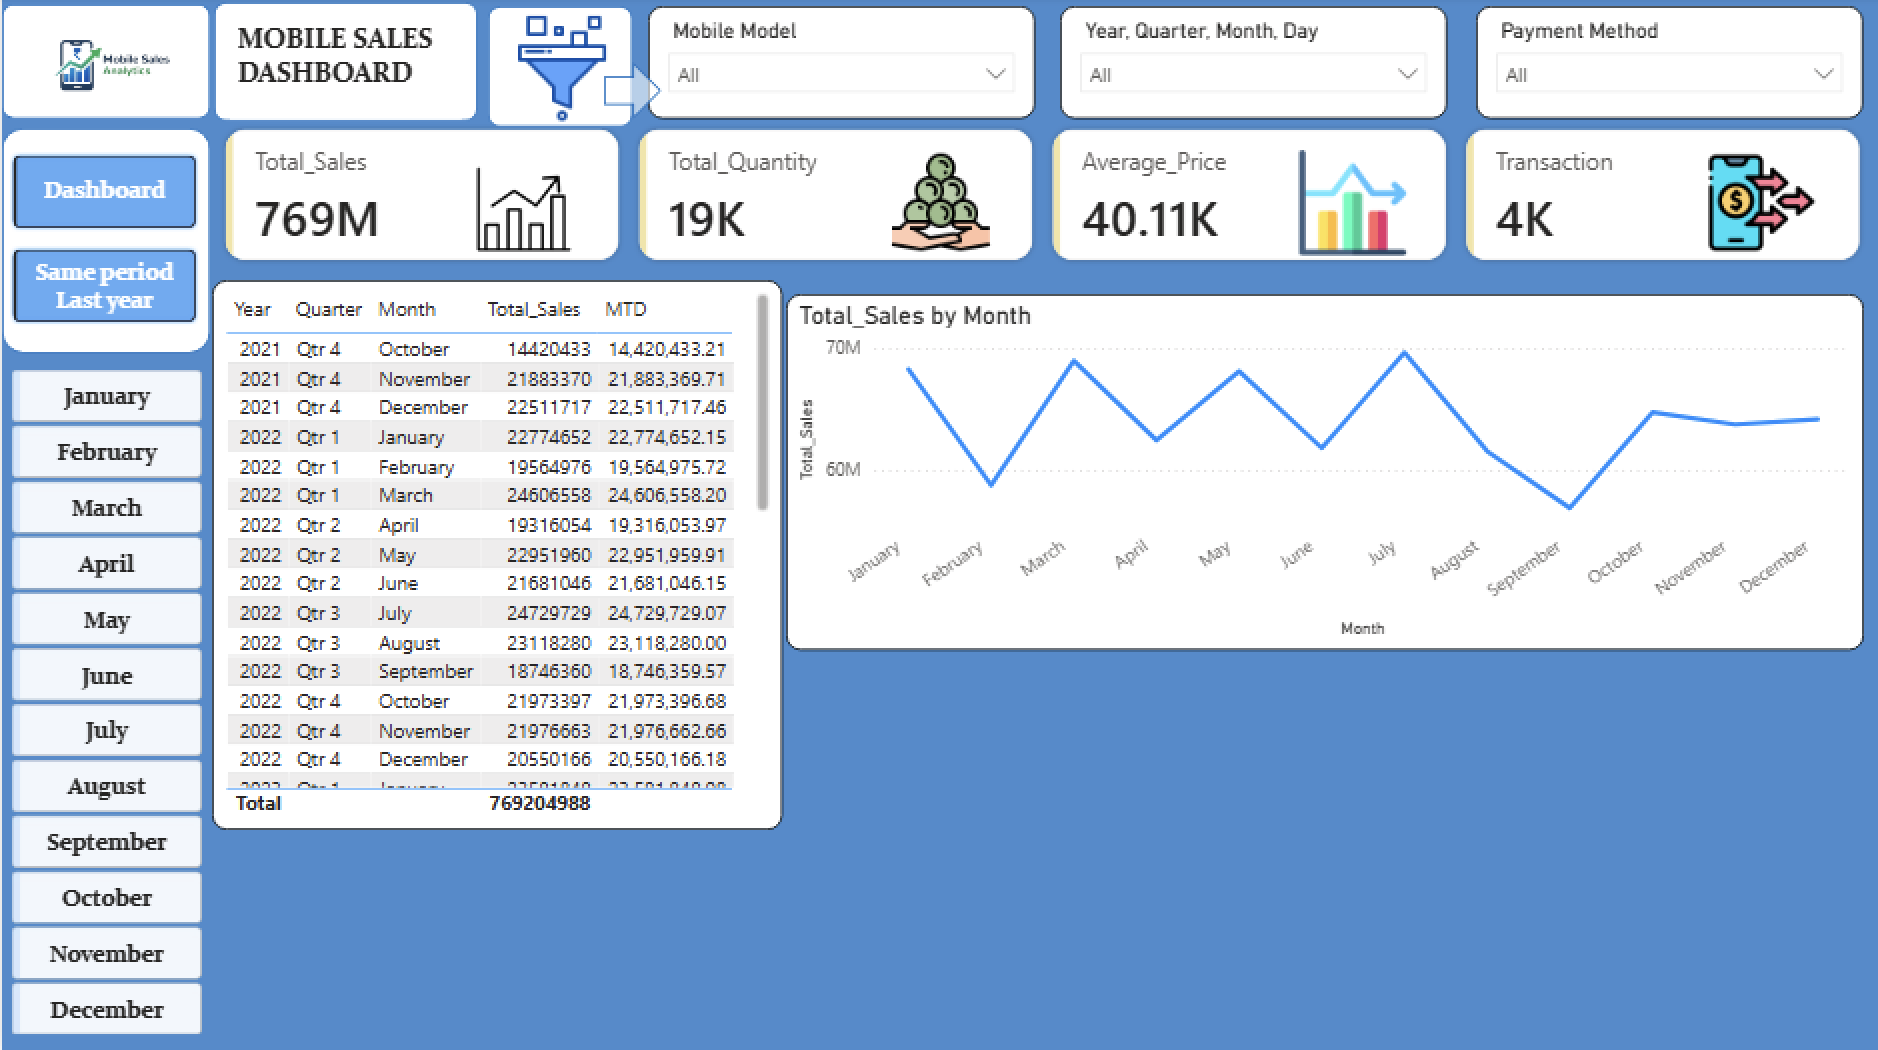

Layout of this report page (visuals, bound fields, positions):
{"tool":"powerbi","page":{"name":"MTD Report","canvas":[1280,720],"ordinal":2},"visuals":[{"type":"shape","box":[0,5.8,142,78.3],"z":0},{"type":"image","box":[0,5.8,155.1,89.9],"z":1000},{"type":"shape","box":[0,89.9,142,153.6],"z":2000},{"type":"cardVisual","fields":{"Data":["Sales_Data.Total_Sales","Sales_Data.Total_Quantity","Sales_Data.Average_Price","Sales_Data.Transaction"]},"box":[140.6,79.7,1139.1,113],"z":3000},{"type":"image","box":[1146.4,104.3,105.8,72.5],"z":4000},{"type":"image","box":[875.4,104.3,91.3,72.5],"z":5000},{"type":"image","box":[594.2,104.3,91.3,71],"z":6000},{"type":"image","box":[301.4,104.3,108.7,81.2],"z":7000},{"type":"slicer","fields":{"Values":["Sales_Data.Mobile Model"]},"box":[440.6,7.2,263.8,76.8],"z":8000},{"type":"slicer","fields":{"Values":["Custom_Calendar.Date.Variation.Date Hierarchy.Year","Custom_Calendar.Date.Variation.Date Hierarchy.Quarter","Custom_Calendar.Date.Variation.Date Hierarchy.Month","Custom_Calendar.Date.Variation.Date Hierarchy.Day"]},"box":[721.7,7.2,263.8,76.8],"z":9000},{"type":"slicer","fields":{"Values":["Sales_Data.Payment Method"]},"box":[1004.3,7.2,263.8,76.8],"z":10000},{"type":"shape","box":[331.9,7.2,98.6,82.6],"z":11000},{"type":"image","box":[340.6,11.6,81.2,73.9],"z":12000},{"type":"shape","box":[410.1,44.9,39.1,39.1],"z":13000},{"type":"shape","box":[144.9,4.3,179.7,81.2],"z":14000},{"type":"textbox","box":[155.1,11.6,158,72.5],"z":15000},{"type":"advancedSlicerVisual","fields":{"Values":["Custom_Calendar.Date.Variation.Date Hierarchy.Month"]},"box":[1.4,249,140.6,471],"z":16000},{"type":"tableEx","fields":{"Values":["Custom_Calendar.Date.Variation.Date Hierarchy.Year","Custom_Calendar.Date.Variation.Date Hierarchy.Quarter","Custom_Calendar.Date.Variation.Date Hierarchy.Month","Sales_Data.Total_Sales","Sales_Data.MTD"]},"box":[142.6,193,375.8,388.8],"z":17000},{"type":"lineChart","fields":{"Y":["Sales_Data.Total_Sales"],"Category":["Custom_Calendar.Date.Variation.Date Hierarchy.Month"]},"box":[531.4,216,735.8,267.8],"z":18000},{"type":"pageNavigator","box":[5.8,106.6,129.6,119.5],"z":18001}]}

Visuals, with their boxes in screenshot pixels (x1, y1, x2, y2), scaled from the page's 1280x720 canvas onto the 1878x1050 screenshot:
shape: BBox(0, 8, 208, 123)
image: BBox(0, 8, 228, 140)
shape: BBox(0, 131, 208, 355)
cardVisual - Sales_Data.Total_Sales x Sales_Data.Total_Quantity: BBox(206, 116, 1877, 281)
image: BBox(1682, 152, 1837, 258)
image: BBox(1284, 152, 1418, 258)
image: BBox(872, 152, 1006, 256)
image: BBox(442, 152, 602, 271)
slicer - Sales_Data.Mobile Model: BBox(646, 10, 1033, 122)
slicer - Custom_Calendar.Date.Variation.Date Hierarchy.Year x Custom_Calendar.Date.Variation.Date Hierarchy.Quarter: BBox(1059, 10, 1446, 122)
slicer - Sales_Data.Payment Method: BBox(1473, 10, 1861, 122)
shape: BBox(487, 10, 632, 131)
image: BBox(500, 17, 619, 125)
shape: BBox(602, 65, 659, 122)
shape: BBox(213, 6, 476, 125)
textbox: BBox(228, 17, 459, 123)
advancedSlicerVisual - Custom_Calendar.Date.Variation.Date Hierarchy.Month: BBox(2, 363, 208, 1049)
tableEx - Custom_Calendar.Date.Variation.Date Hierarchy.Year x Custom_Calendar.Date.Variation.Date Hierarchy.Quarter: BBox(209, 281, 761, 848)
lineChart - Sales_Data.Total_Sales x Custom_Calendar.Date.Variation.Date Hierarchy.Month: BBox(780, 315, 1859, 706)
pageNavigator: BBox(9, 155, 199, 330)
